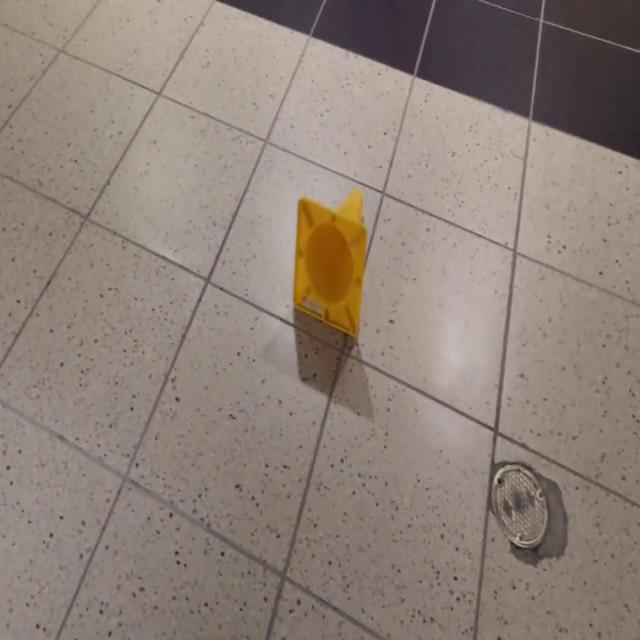frc_cone: (295, 188, 369, 344)
